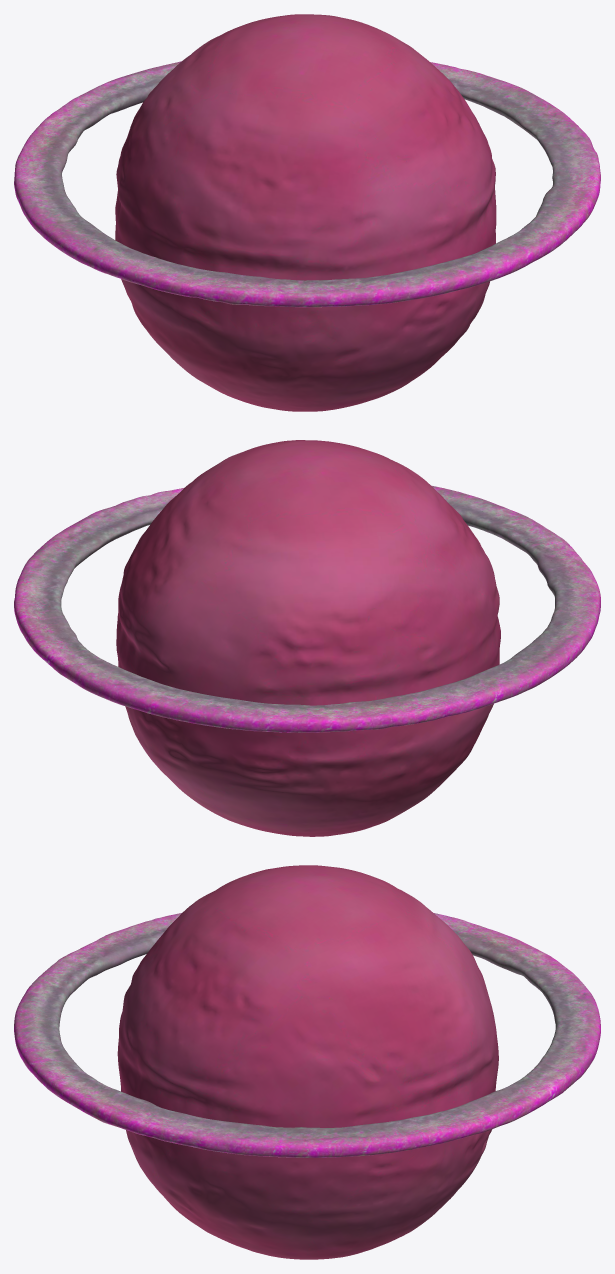
The model's file is pink.glb.
3 views of the same model, one above another, from view 1: azimuth 30°, elevation 25°; view 2: azimuth 150°, elevation 25°; view 3: azimuth 270°, elevation 25° (orthographic).
Parts seen in each view (by area): view 1: high_poly; view 2: high_poly; view 3: high_poly.
Boxes of the visible parts, x1,y1,x2,y2 form: high_poly: [14, 14, 600, 411]; high_poly: [14, 440, 600, 836]; high_poly: [14, 865, 600, 1259].
Size of the model in its own units: 1 by 0.677 by 0.9995.
Materials: 1 (1 with a texture image).
